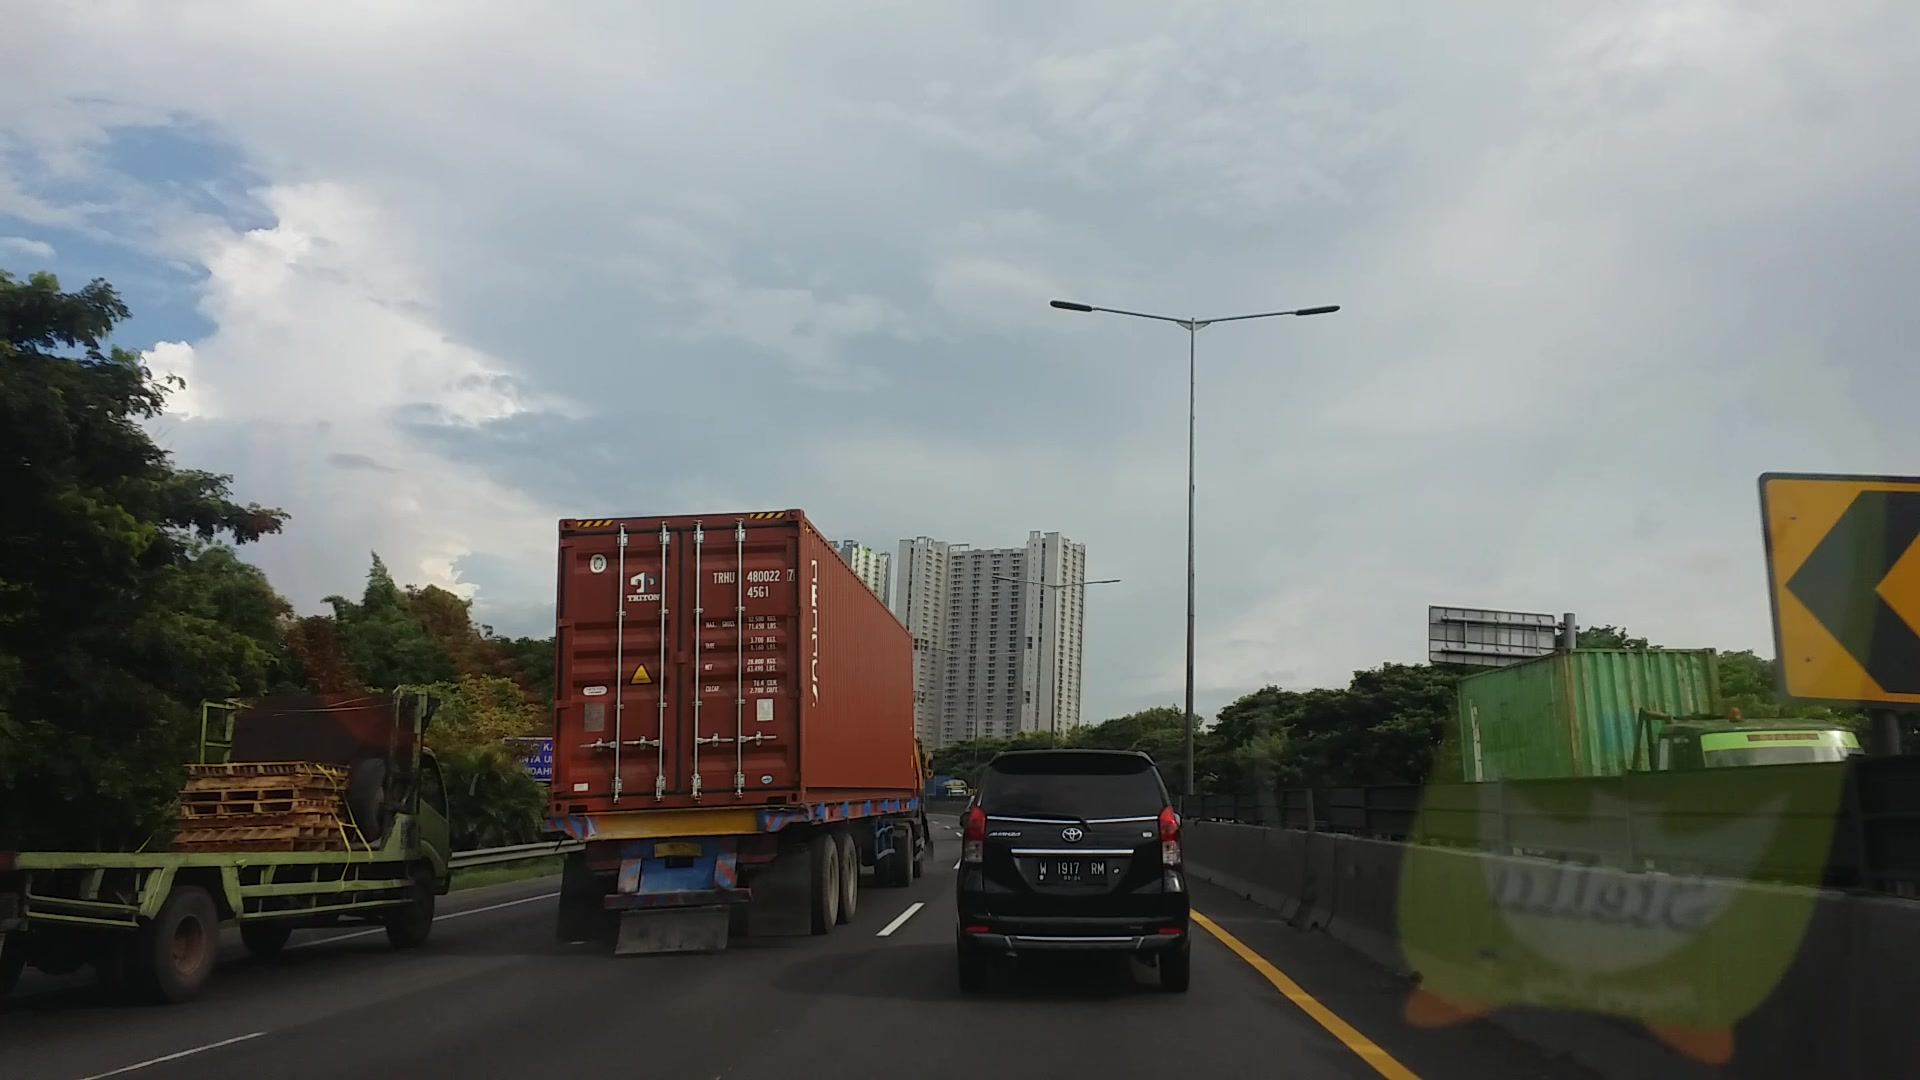plate_positive: (1036, 856, 1108, 885)
